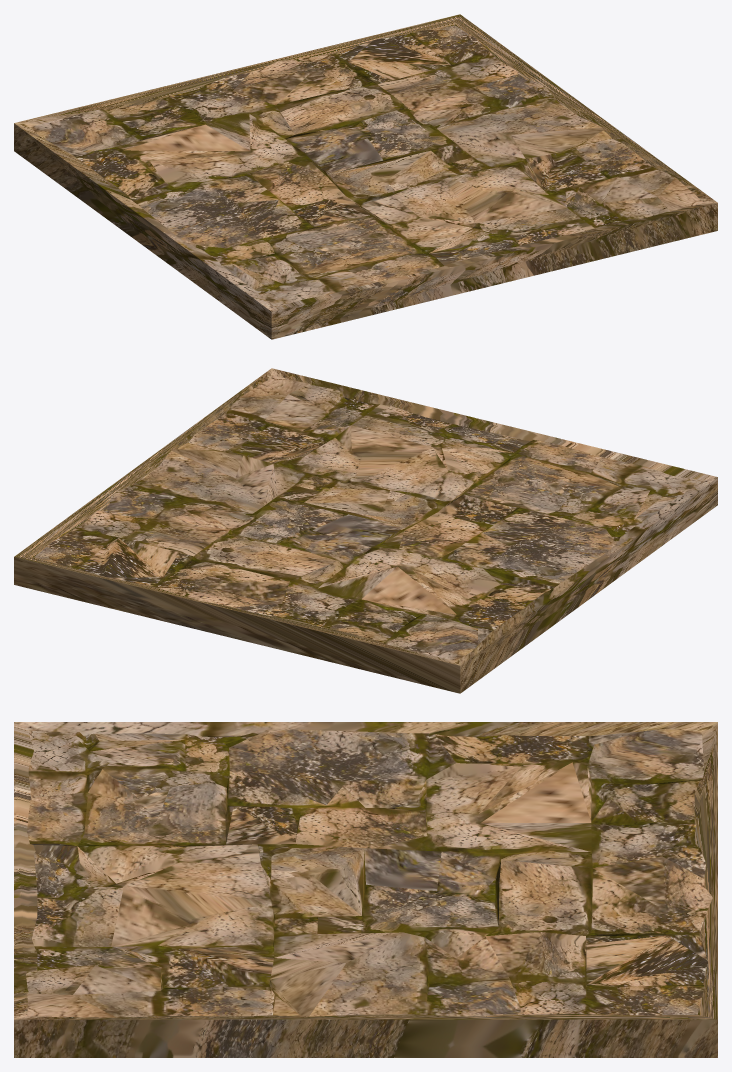
Rendered from ARQ_PisoPiedraMaya_01_LOD2.fbx.
3 renders of one model, top to bottom at view 1: azimuth 30°, elevation 25°; view 2: azimuth 150°, elevation 25°; view 3: azimuth 270°, elevation 25°, orthographic. The views are drawn at different scales.
Visible parts, largest first — view 1: ARQ_PisoPiedraMaya_01_Mesh000; view 2: ARQ_PisoPiedraMaya_01_Mesh000; view 3: ARQ_PisoPiedraMaya_01_Mesh000.
Part boxes in pixels (x1,y1,x2,y2): ARQ_PisoPiedraMaya_01_Mesh000: (14, 14, 717, 339); ARQ_PisoPiedraMaya_01_Mesh000: (14, 368, 717, 693); ARQ_PisoPiedraMaya_01_Mesh000: (14, 722, 717, 1057).
Bounding box in the file's own units: 3 × 0.18 × 3.
